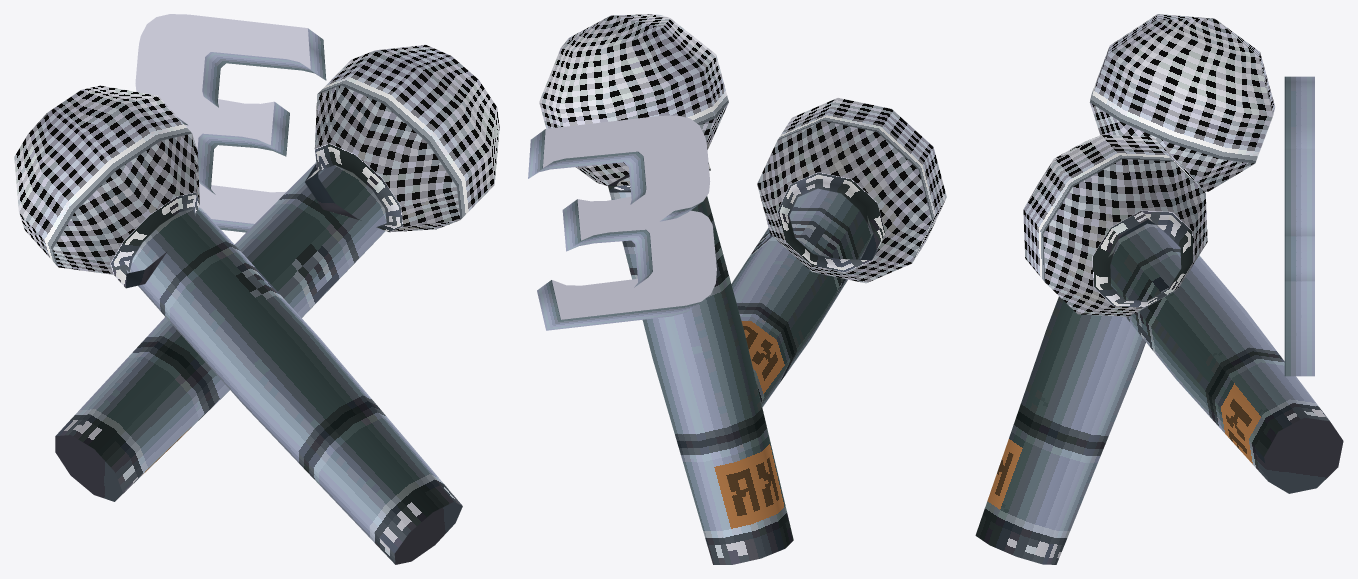
Rendered from ps2_save-icons_karaokerevolutionvolume3.glb.
The picture shows the model from 3 angles, left to right: view 1: azimuth 30°, elevation 25°; view 2: azimuth 150°, elevation 25°; view 3: azimuth 270°, elevation 25°; orthographic projection. The views are drawn at different scales.
Visible parts, largest first — view 1: kara.icn; view 2: kara.icn; view 3: kara.icn.
Boxes of the visible parts, box(x1,y1,x2,y2) form: kara.icn: box(14, 14, 499, 564); kara.icn: box(528, 14, 946, 564); kara.icn: box(975, 14, 1343, 564).
Bounding box in the file's own units: 4.72 × 4.9 × 3.66.
1 material, 1 textured.
